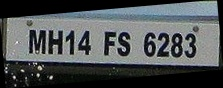character: (28, 28, 46, 54), (47, 28, 63, 55), (155, 32, 170, 57), (77, 30, 91, 56), (116, 30, 130, 56), (183, 32, 196, 59), (103, 30, 116, 55), (170, 32, 183, 57), (143, 31, 155, 56), (65, 29, 75, 55)
